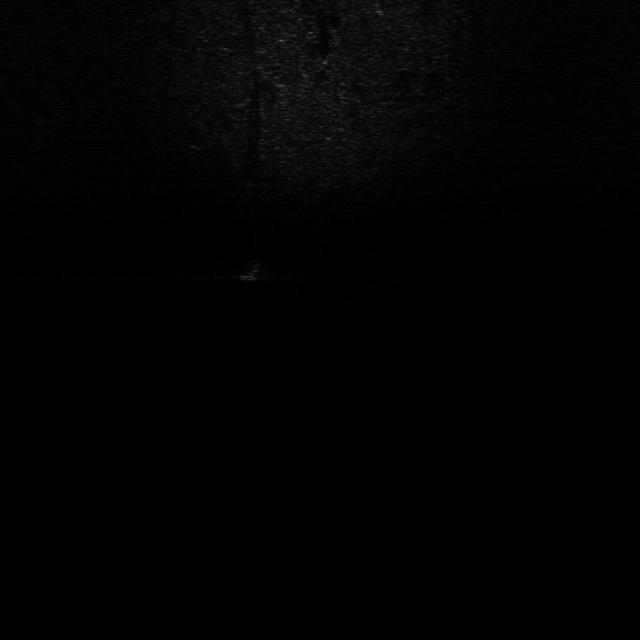human body: (233, 240, 268, 301)
